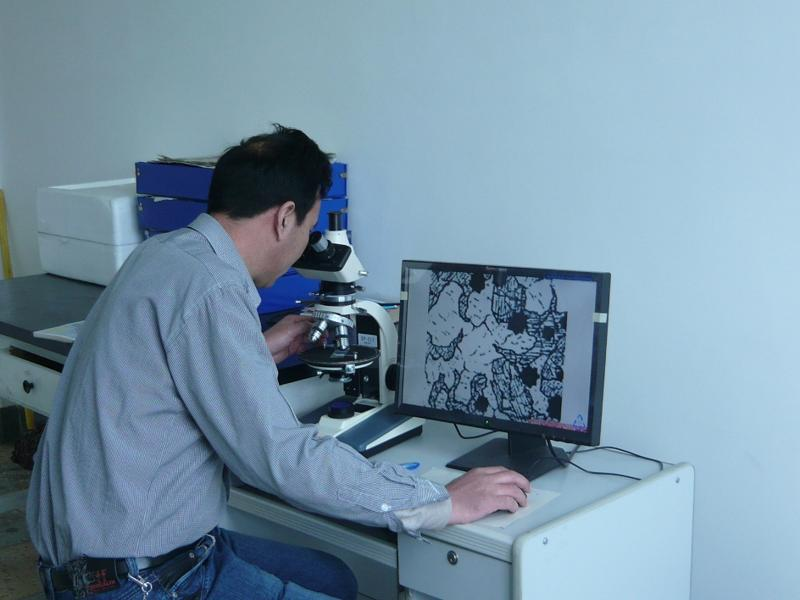person: (29, 128, 531, 599)
